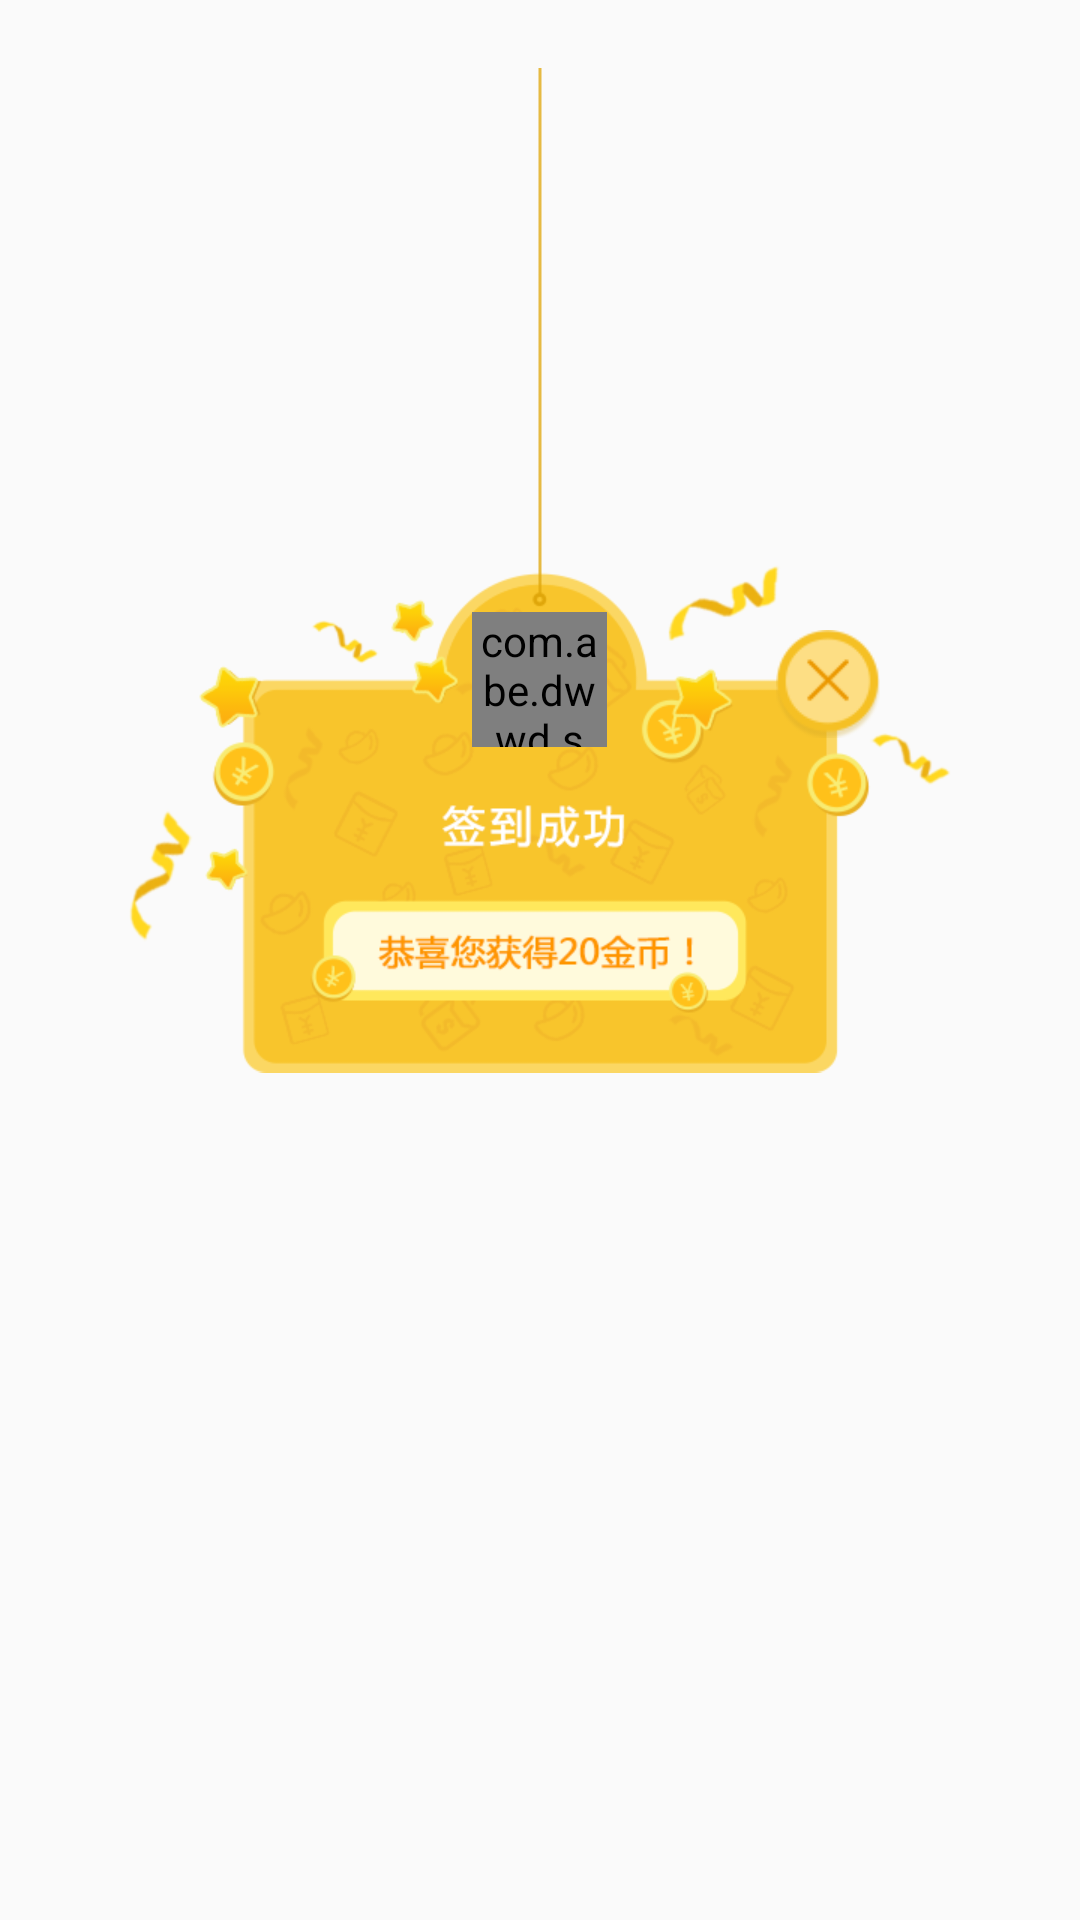

Screen size 1080px x 1920px. Icon name, then its box in pixels as rect(x1, y1, x2, y2):
sign in back: rect(774, 630, 882, 738)
